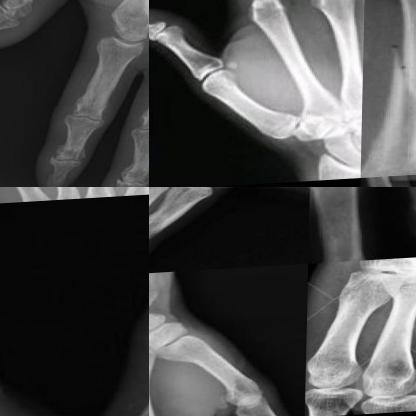fracture: (374, 44, 415, 170), (5, 187, 42, 203), (282, 187, 311, 201)
